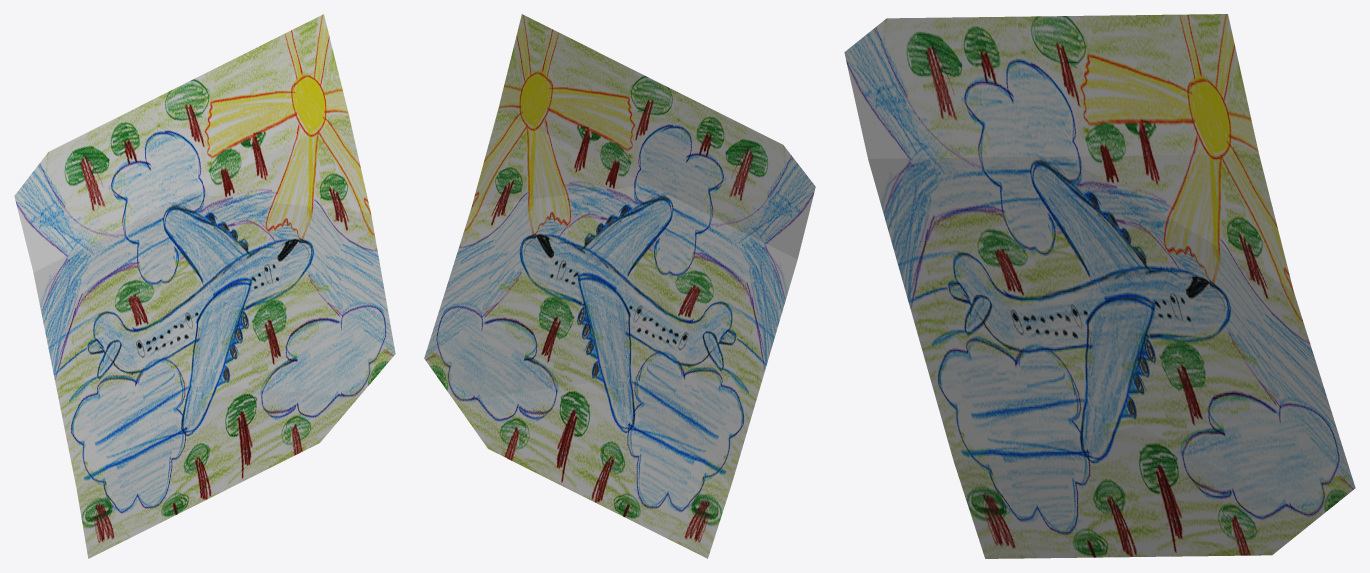
The model's file is SM_ChildArt2.fbx.
The picture shows the model from 3 angles, left to right: view 1: azimuth 30°, elevation 25°; view 2: azimuth 150°, elevation 25°; view 3: azimuth 330°, elevation 25°; orthographic projection. The views are drawn at different scales.
Visible parts, largest first — view 1: SM_ChildArt2; view 2: SM_ChildArt2; view 3: SM_ChildArt2.
Boxes of the visible parts, <box> form: SM_ChildArt2: <box>14,14,395,558</box>; SM_ChildArt2: <box>424,14,815,558</box>; SM_ChildArt2: <box>844,14,1355,558</box>.
Size of the model in its own units: 26.38 by 32.19 by 2.28.
